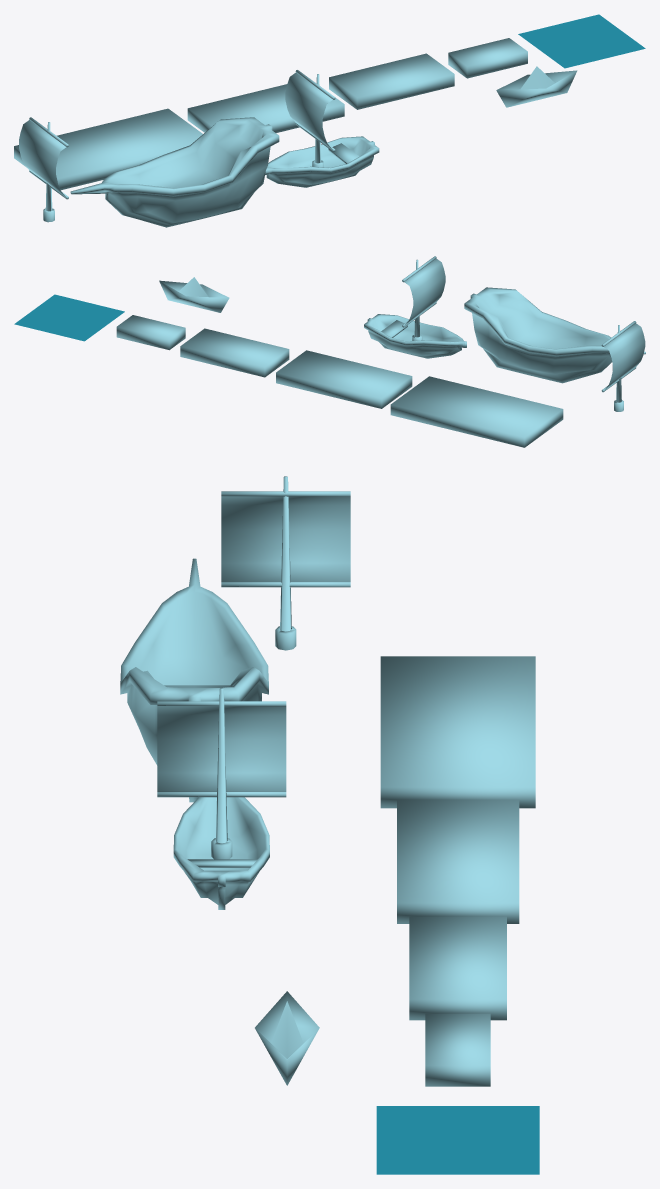
Rendered from Sailboat001.obj.
3 renders of one model, top to bottom at view 1: azimuth 30°, elevation 25°; view 2: azimuth 150°, elevation 25°; view 3: azimuth 270°, elevation 25°, orthographic. The views are drawn at different scales.
Parts seen in each view (by area): view 1: Object008, Object006, Galeon001, Box004, Plane001, Box003, Box001, Object, Paperboat001, Object010; view 2: Object008, Object006, Box003, Galeon001, Box004, Plane001, Box001, Object, Paperboat001; view 3: Object006, Galeon001, Box003, Object008, Plane001, Object, Box004, Box001, Paperboat001, Object010.
Part boxes in pixels (x1=…): Object008: x1=70, y1=117, x2=279, y2=227; Object006: x1=14, y1=108, x2=202, y2=190; Galeon001: x1=265, y1=70, x2=379, y2=187; Box004: x1=329, y1=53, x2=454, y2=109; Plane001: x1=518, y1=14, x2=645, y2=68; Box003: x1=187, y1=84, x2=344, y2=132; Box001: x1=448, y1=38, x2=527, y2=78; Object: x1=19, y1=120, x2=66, y2=197; Paperboat001: x1=496, y1=66, x2=577, y2=107; Object010: x1=43, y1=122, x2=54, y2=222; Object008: x1=464, y1=287, x2=645, y2=383; Object006: x1=390, y1=376, x2=563, y2=447; Box003: x1=276, y1=350, x2=412, y2=408; Galeon001: x1=364, y1=256, x2=466, y2=358; Box004: x1=180, y1=328, x2=289, y2=377; Plane001: x1=14, y1=294, x2=124, y2=341; Box001: x1=116, y1=315, x2=185, y2=350; Object: x1=604, y1=323, x2=645, y2=389; Paperboat001: x1=159, y1=277, x2=229, y2=312; Object006: x1=380, y1=656, x2=535, y2=808; Galeon001: x1=157, y1=688, x2=286, y2=909; Box003: x1=397, y1=799, x2=519, y2=923; Object008: x1=120, y1=558, x2=268, y2=802; Plane001: x1=376, y1=1106, x2=539, y2=1174; Object: x1=221, y1=496, x2=350, y2=581; Box004: x1=409, y1=916, x2=506, y2=1020; Box001: x1=425, y1=1013, x2=490, y2=1086; Paperboat001: x1=255, y1=991, x2=319, y2=1085; Object010: x1=275, y1=476, x2=296, y2=650.
Size of the model in its own units: 1563 by 258 by 514.
